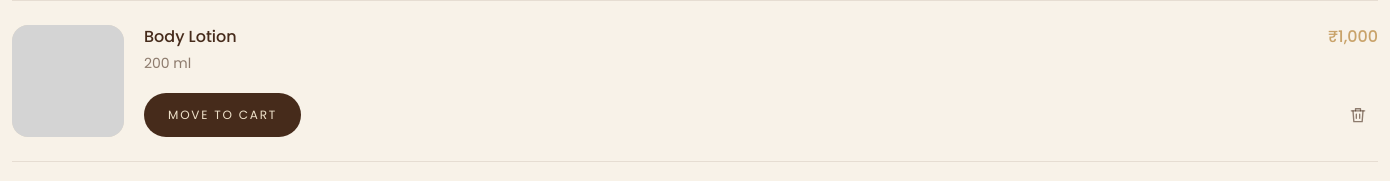
it: WishlistView › Move to Cart puts it in the cart and takes it off the wishlist
Click the button "Move to Cart" at (223, 115), box [144, 93, 301, 137]
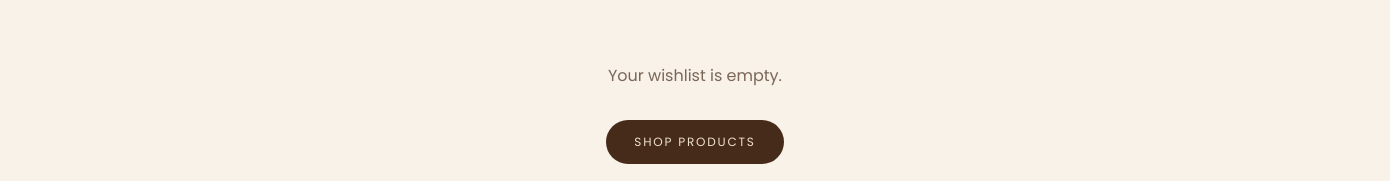
Now the text "Your wishlist is empty." is shown, box [608, 64, 782, 87]
